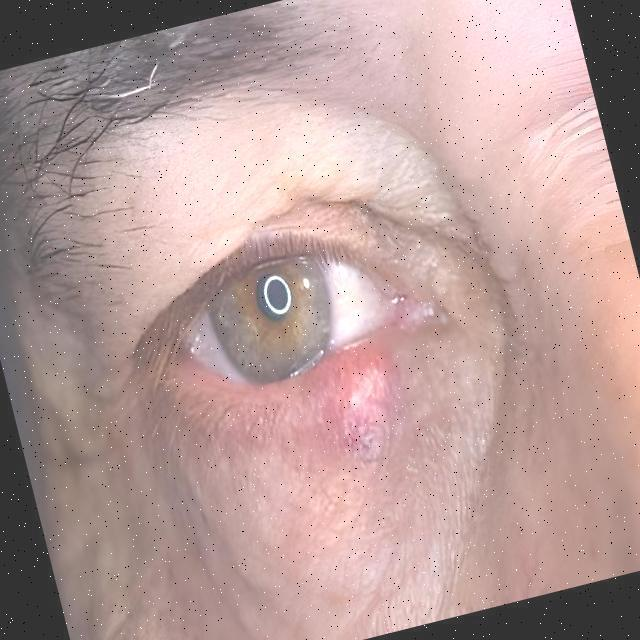Stye: (306, 311, 462, 478)
